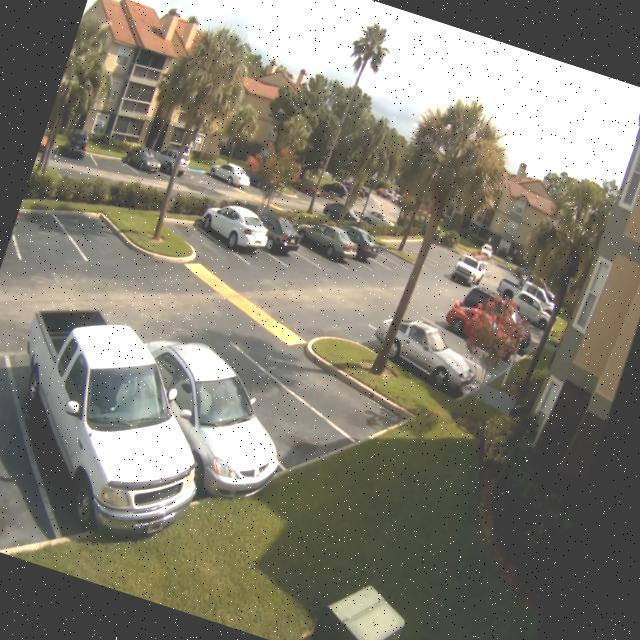empty: (0, 397, 45, 553), (255, 378, 332, 458), (321, 370, 396, 440), (12, 210, 75, 274), (77, 206, 133, 264)
occupied: (26, 331, 188, 508), (170, 364, 286, 492), (380, 305, 478, 388), (203, 196, 273, 262), (262, 209, 308, 259)
